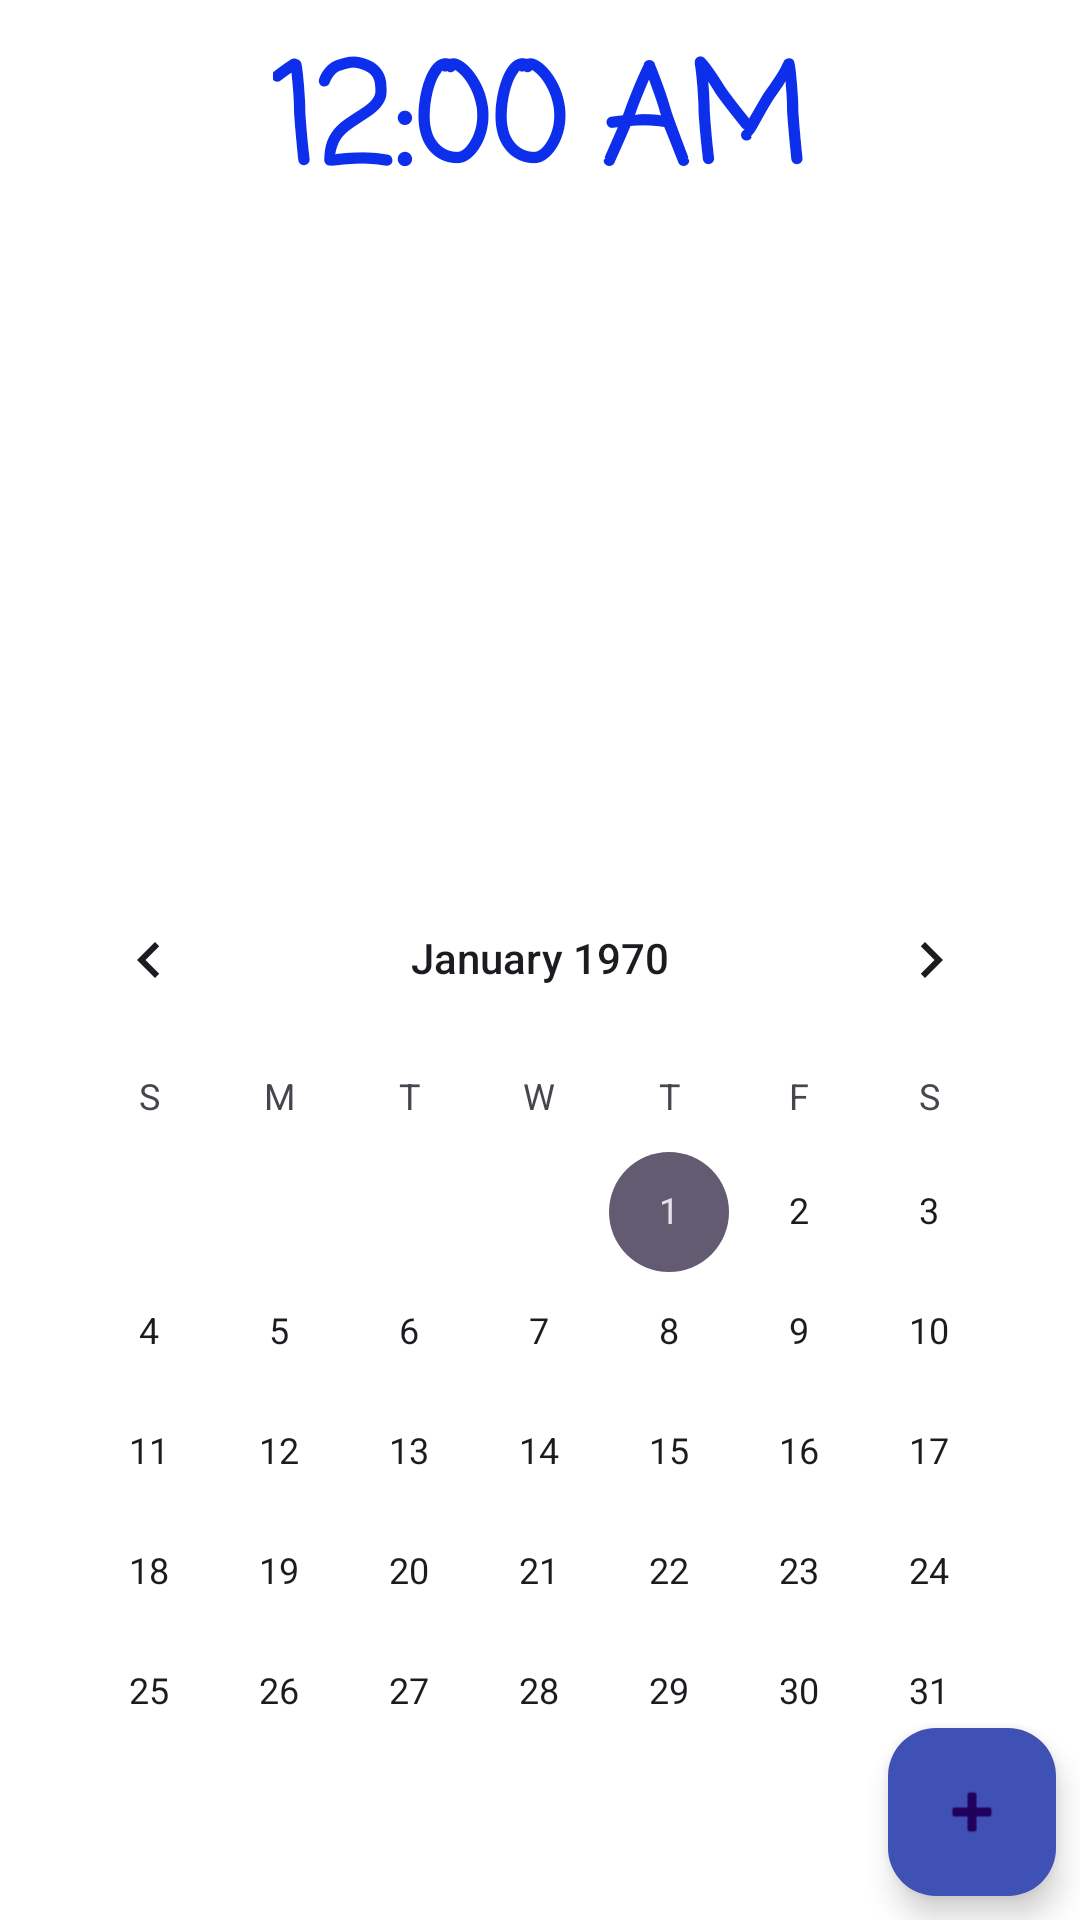

Named icons in this screenshot (1080×1920) and their centers, (x,y):
new date: (972,1812)
